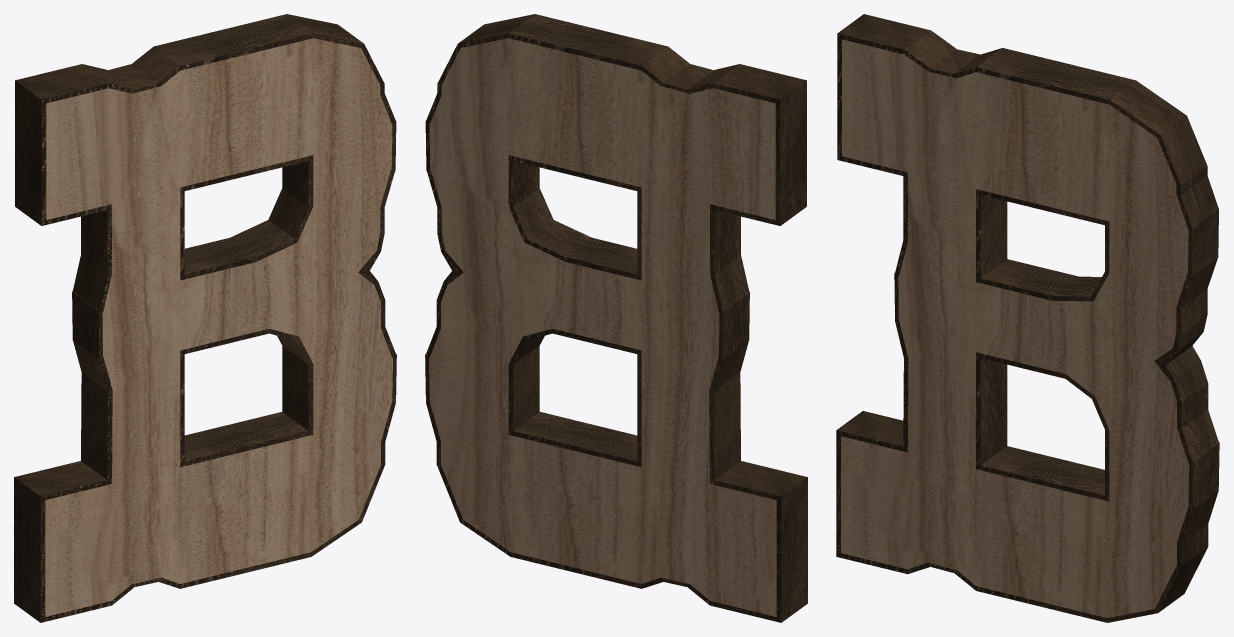
3 views of the same model, side by side, from view 1: azimuth 30°, elevation 25°; view 2: azimuth 150°, elevation 25°; view 3: azimuth 330°, elevation 25° (orthographic).
Parts seen in each view (by area): view 1: B, B_outline; view 2: B, B_outline; view 3: B, B_outline.
Boxes of the visible parts, <box> form: B: <box>45,38,392,616</box>; B_outline: <box>14,14,396,622</box>; B: <box>429,38,776,616</box>; B_outline: <box>425,14,807,622</box>; B: <box>841,39,1189,617</box>; B_outline: <box>836,14,1219,622</box>.
Size of the model in its own units: 77.56 by 109 by 10.
Materials: 2 (2 with a texture image).
